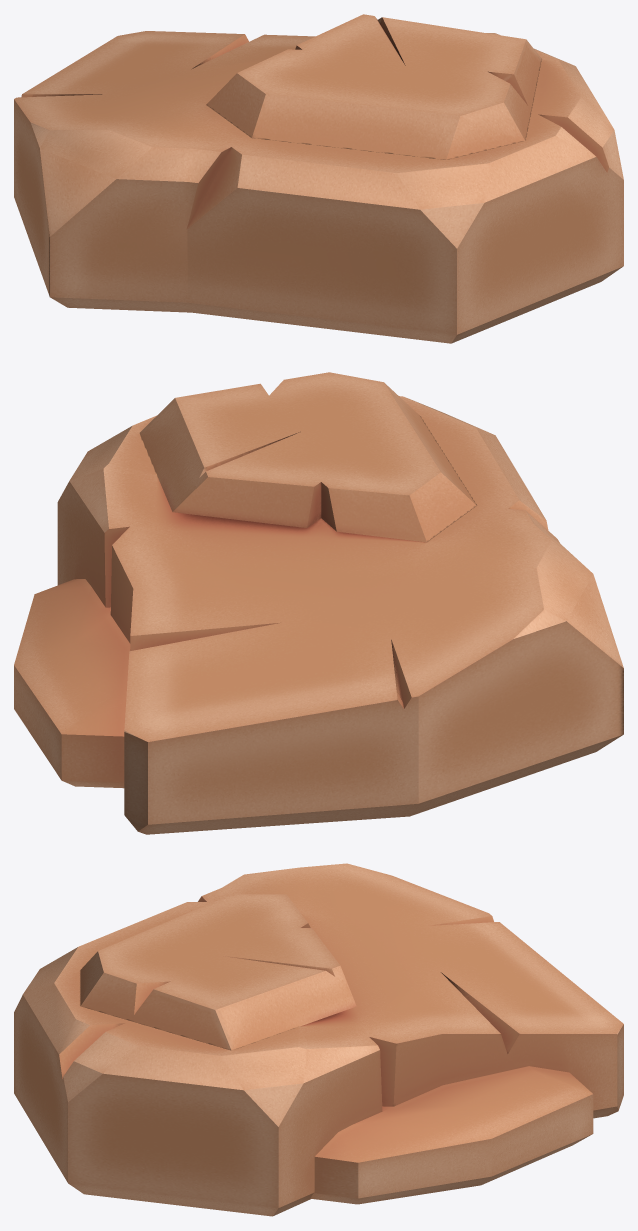
File: desert_scatter_09.glb
The picture shows the model from 3 angles, top to bottom: view 1: azimuth 30°, elevation 25°; view 2: azimuth 150°, elevation 25°; view 3: azimuth 270°, elevation 25°; orthographic projection. The views are drawn at different scales.
Visible parts, largest first — view 1: Rock_9_Rock_9_0; view 2: Rock_9_Rock_9_0; view 3: Rock_9_Rock_9_0.
Boxes of the visible parts, <box> form: Rock_9_Rock_9_0: <box>14,14,623,343</box>; Rock_9_Rock_9_0: <box>14,372,623,834</box>; Rock_9_Rock_9_0: <box>14,863,623,1216</box>.
Size of the model in its own units: 2.68 by 1 by 2.91.
Materials: 1 (1 with a texture image).
